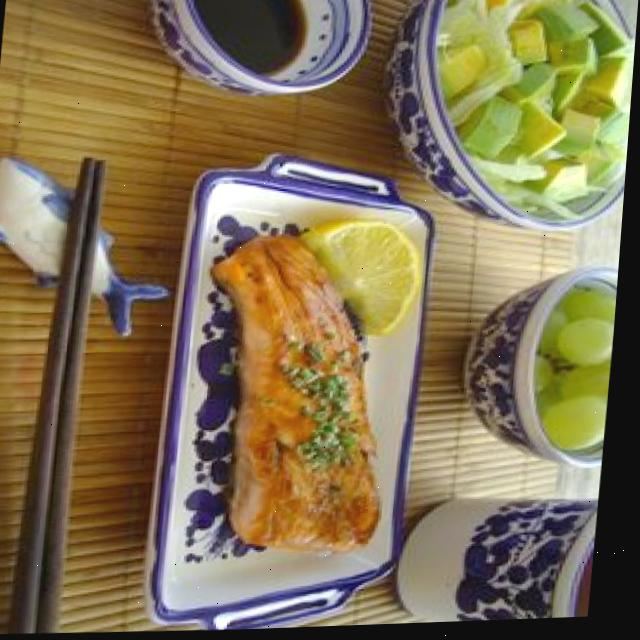熟制海鲜: (179, 187, 471, 594)
